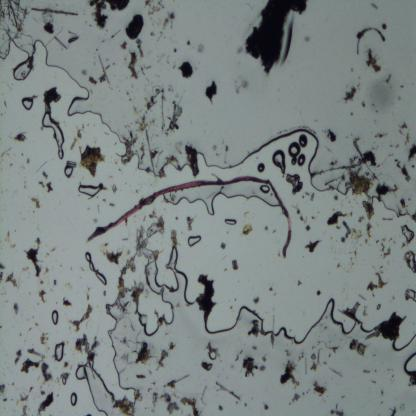Air bubble: (103, 247, 374, 354), (73, 357, 125, 416), (166, 190, 275, 214), (41, 113, 66, 159), (83, 250, 107, 284), (390, 332, 416, 356), (272, 149, 287, 174), (286, 141, 302, 164), (402, 352, 416, 376), (78, 182, 100, 197), (404, 250, 416, 273), (400, 225, 415, 243), (204, 342, 219, 359), (54, 342, 66, 363), (187, 233, 203, 248), (404, 287, 416, 303), (50, 309, 60, 327), (58, 371, 69, 386), (296, 153, 308, 166), (22, 98, 35, 110), (223, 216, 239, 225), (62, 165, 74, 176), (256, 162, 267, 174), (299, 134, 308, 148), (70, 392, 78, 406), (376, 304, 380, 310)
Background material: (0, 33, 103, 123), (244, 0, 310, 73), (117, 216, 166, 290), (312, 135, 368, 178), (0, 0, 30, 48), (356, 22, 389, 56), (135, 106, 156, 159), (196, 272, 220, 316), (377, 311, 406, 345), (93, 0, 128, 28), (23, 237, 46, 278), (347, 168, 376, 199), (119, 131, 140, 167), (80, 147, 107, 175), (360, 271, 390, 296), (280, 357, 302, 391), (31, 3, 79, 18), (213, 379, 241, 403), (73, 335, 98, 360), (170, 94, 186, 133), (133, 338, 156, 365), (364, 48, 386, 76), (151, 93, 169, 127), (338, 301, 363, 325), (184, 141, 202, 174), (124, 13, 144, 41), (35, 389, 55, 416), (244, 356, 268, 378), (71, 305, 91, 330), (284, 172, 304, 196), (42, 85, 61, 110), (95, 53, 109, 85), (111, 398, 135, 416), (161, 389, 178, 414), (376, 183, 402, 199), (230, 73, 249, 94), (183, 397, 203, 416), (308, 347, 322, 374), (21, 356, 39, 377), (163, 10, 180, 32), (269, 314, 279, 351), (143, 0, 166, 16), (324, 210, 347, 226), (115, 287, 129, 313), (164, 374, 190, 388), (104, 244, 122, 263), (206, 80, 221, 102), (126, 52, 138, 79), (364, 150, 380, 170), (380, 236, 394, 258), (348, 340, 367, 356), (38, 360, 53, 380), (327, 174, 351, 186), (343, 226, 361, 242), (24, 347, 46, 360), (3, 230, 17, 250), (201, 381, 212, 406), (116, 335, 132, 352), (304, 238, 322, 253), (4, 273, 22, 288), (12, 129, 30, 144), (316, 380, 328, 401), (66, 29, 84, 43), (362, 200, 376, 218), (156, 308, 168, 328), (180, 63, 196, 78), (168, 229, 180, 249), (248, 321, 261, 339), (156, 350, 167, 371), (130, 280, 142, 298), (44, 20, 59, 34), (200, 360, 215, 374), (144, 96, 159, 110), (141, 61, 155, 76), (30, 194, 42, 211), (407, 140, 416, 162), (345, 84, 356, 102), (240, 219, 253, 234), (365, 220, 375, 239), (234, 348, 247, 362), (17, 391, 30, 405), (327, 342, 339, 356), (70, 135, 81, 150), (328, 407, 346, 416), (40, 330, 50, 346), (152, 85, 166, 96), (151, 384, 156, 413), (326, 128, 336, 142), (40, 290, 50, 304), (86, 72, 95, 87), (78, 126, 90, 137), (260, 396, 270, 409), (186, 216, 194, 232), (333, 264, 349, 272), (398, 121, 407, 135), (356, 290, 367, 301), (45, 182, 55, 194), (63, 295, 72, 308), (14, 351, 23, 364), (401, 163, 409, 177), (136, 390, 146, 401), (110, 181, 119, 193), (374, 131, 387, 139), (292, 394, 302, 404), (13, 300, 20, 314), (350, 250, 357, 264), (41, 170, 53, 178), (398, 195, 405, 208), (370, 2, 380, 11), (99, 181, 107, 192), (390, 405, 398, 416), (410, 374, 416, 388), (0, 381, 7, 393), (300, 215, 310, 223), (36, 181, 47, 188), (385, 71, 392, 82), (395, 158, 402, 169), (78, 68, 87, 76), (362, 306, 368, 318), (252, 295, 261, 303), (332, 191, 340, 200), (21, 406, 28, 416), (411, 209, 416, 223), (169, 342, 177, 350), (120, 42, 128, 50), (62, 359, 70, 367), (222, 143, 228, 153), (198, 42, 204, 52), (157, 31, 163, 41), (135, 372, 145, 378), (405, 133, 410, 145), (361, 367, 369, 374), (39, 389, 47, 396), (293, 207, 300, 215), (219, 402, 224, 412), (170, 286, 176, 294), (358, 214, 364, 222), (315, 288, 321, 296), (38, 280, 46, 286), (185, 40, 191, 48), (50, 245, 56, 253), (0, 261, 4, 272), (243, 401, 249, 408), (252, 344, 258, 351), (380, 388, 386, 395), (0, 272, 4, 282), (297, 280, 302, 288), (172, 46, 178, 52), (382, 24, 388, 30), (263, 224, 268, 231), (304, 191, 311, 196), (386, 217, 393, 222), (103, 288, 107, 296), (334, 402, 338, 410), (109, 201, 114, 207), (29, 386, 34, 392), (26, 158, 31, 164), (1, 398, 8, 402), (2, 101, 6, 107), (34, 321, 38, 327), (268, 286, 274, 290), (311, 216, 317, 220), (152, 30, 155, 38), (411, 163, 415, 169), (19, 331, 23, 336), (372, 379, 376, 384), (86, 294, 90, 299), (362, 102, 366, 107), (396, 142, 399, 148), (126, 90, 129, 96), (350, 112, 354, 116), (374, 110, 378, 114), (349, 212, 353, 216), (300, 195, 304, 199), (146, 77, 149, 82), (399, 84, 404, 87), (131, 84, 134, 88), (128, 98, 132, 101), (390, 144, 394, 147), (172, 64, 175, 68), (104, 198, 106, 203), (0, 325, 2, 328)
Cotton: (87, 173, 298, 259)
Diatom: (54, 35, 68, 51), (232, 259, 238, 269), (340, 236, 346, 244), (136, 37, 142, 45), (405, 174, 411, 182), (342, 221, 348, 227), (221, 242, 226, 249), (310, 193, 314, 201), (53, 278, 57, 286), (306, 225, 310, 231)
